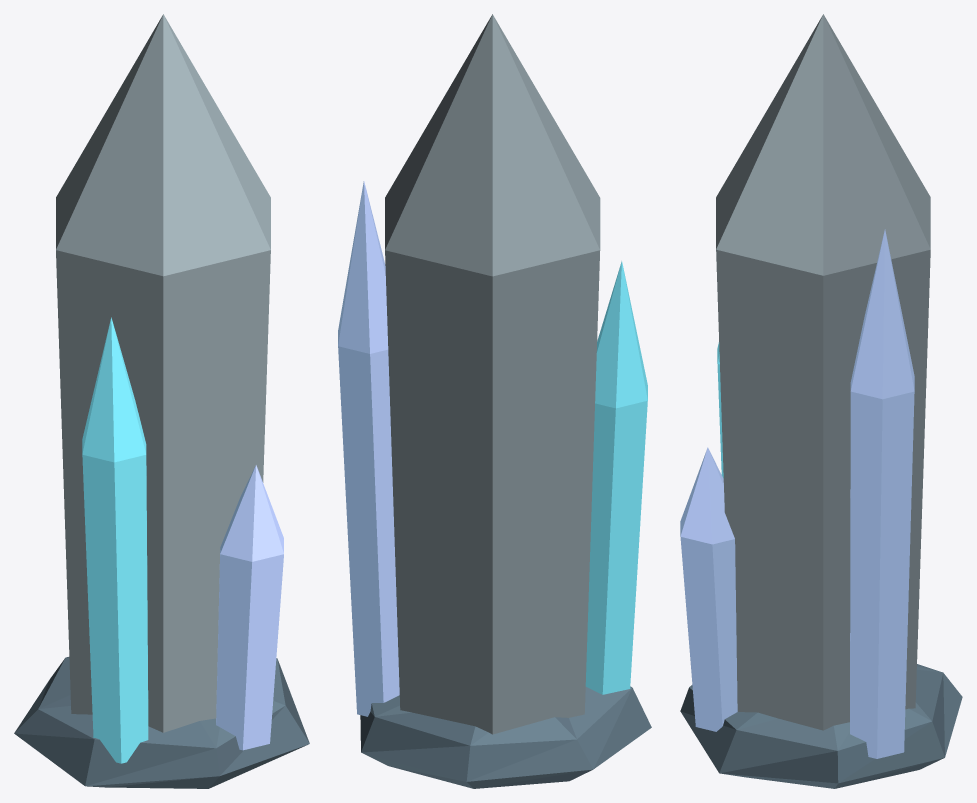
The model's file is ice_pillar.glb.
The picture shows the model from 3 angles, left to right: view 1: azimuth 30°, elevation 25°; view 2: azimuth 150°, elevation 25°; view 3: azimuth 270°, elevation 25°; orthographic projection.
Parts seen in each view (by area): view 1: geometry, crystals; view 2: geometry, crystals; view 3: geometry, crystals.
Boxes of the visible parts, x1,y1,x2,y2 form: geometry: [14, 14, 309, 788]; crystals: [82, 317, 283, 763]; geometry: [360, 14, 651, 788]; crystals: [338, 181, 647, 716]; geometry: [680, 14, 962, 788]; crystals: [680, 229, 914, 758].
Size of the model in its own units: 0.8602 by 2.4 by 0.8429.
